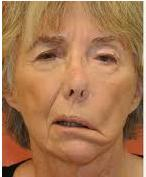strokeEyeSevere: (29, 30, 126, 72)
strokeMouthSevere: (46, 107, 111, 140)
